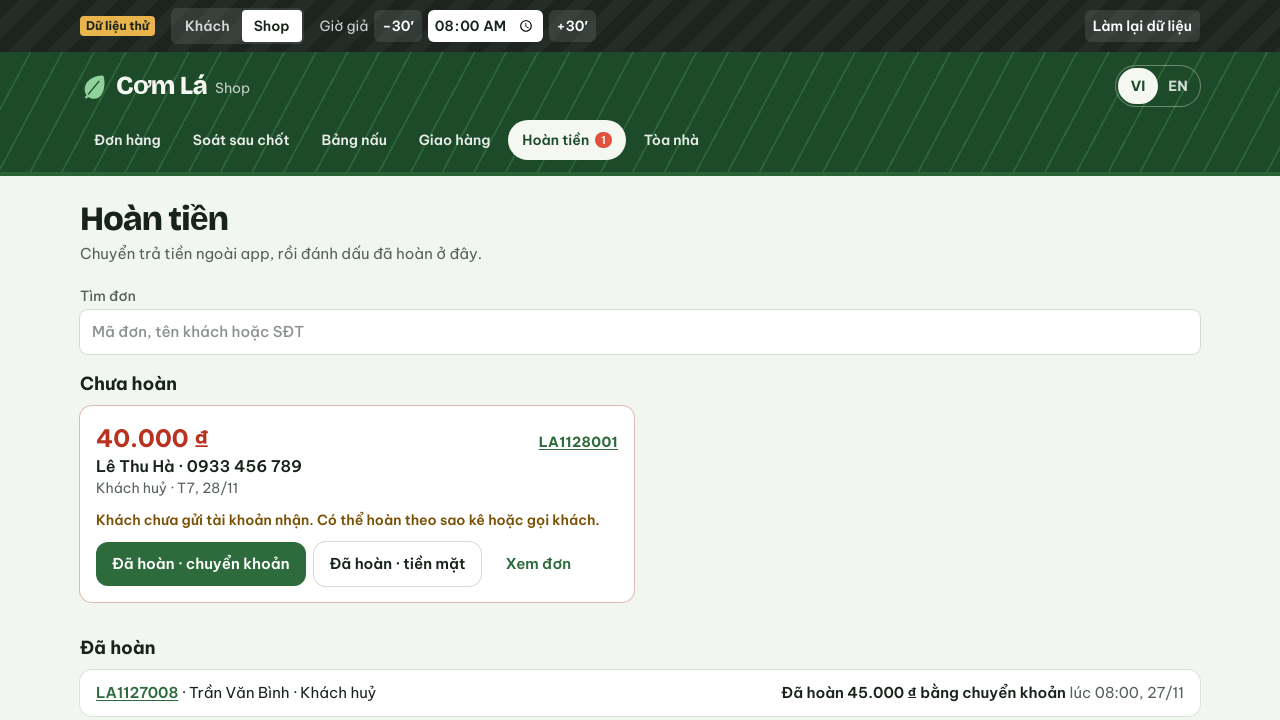
Test case: sorting and searching on the shop screens (CN-56) › AC48: Refunds: search over every day in both parts, newest order first; one time format everywhere
Type "thu ha" into the search field labelled "Tìm đơn".
click(640, 332); type("thu ha")  # box left=80, top=310, right=1200, bottom=354
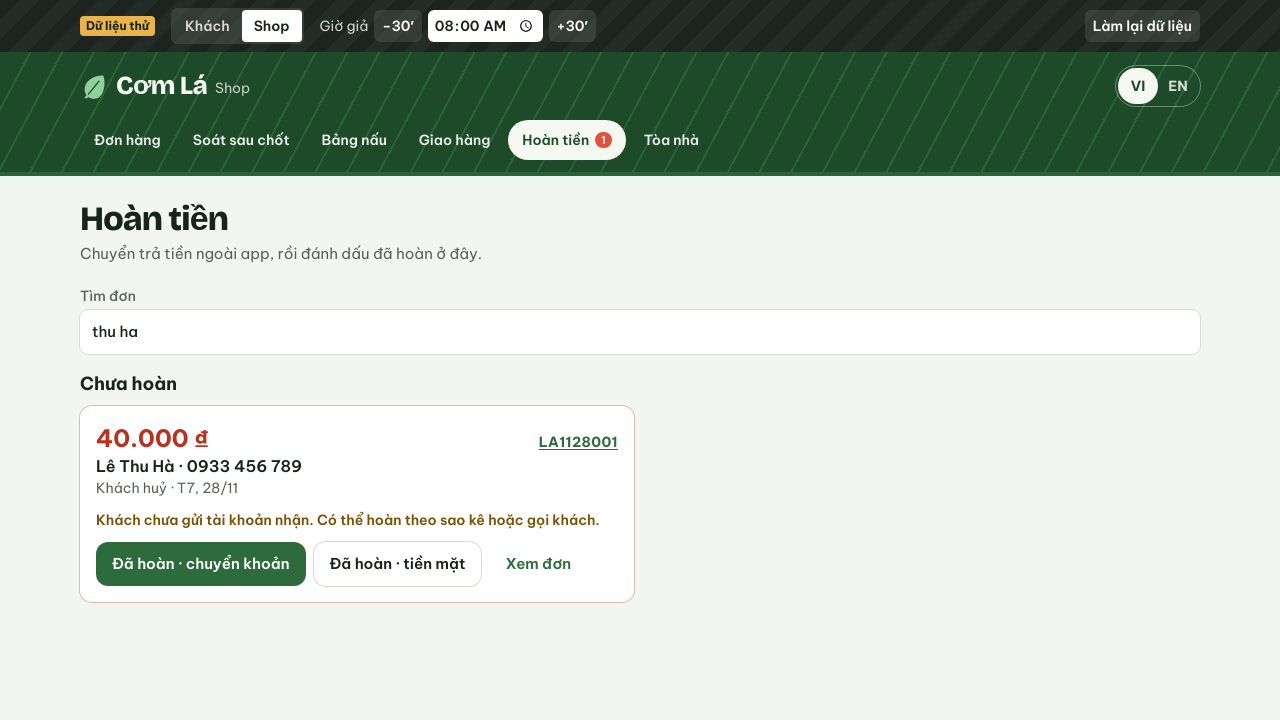
Replace the text in the search field labelled "Tìm đơn" with "binh" at [640, 332], box left=80, top=310, right=1200, bottom=354
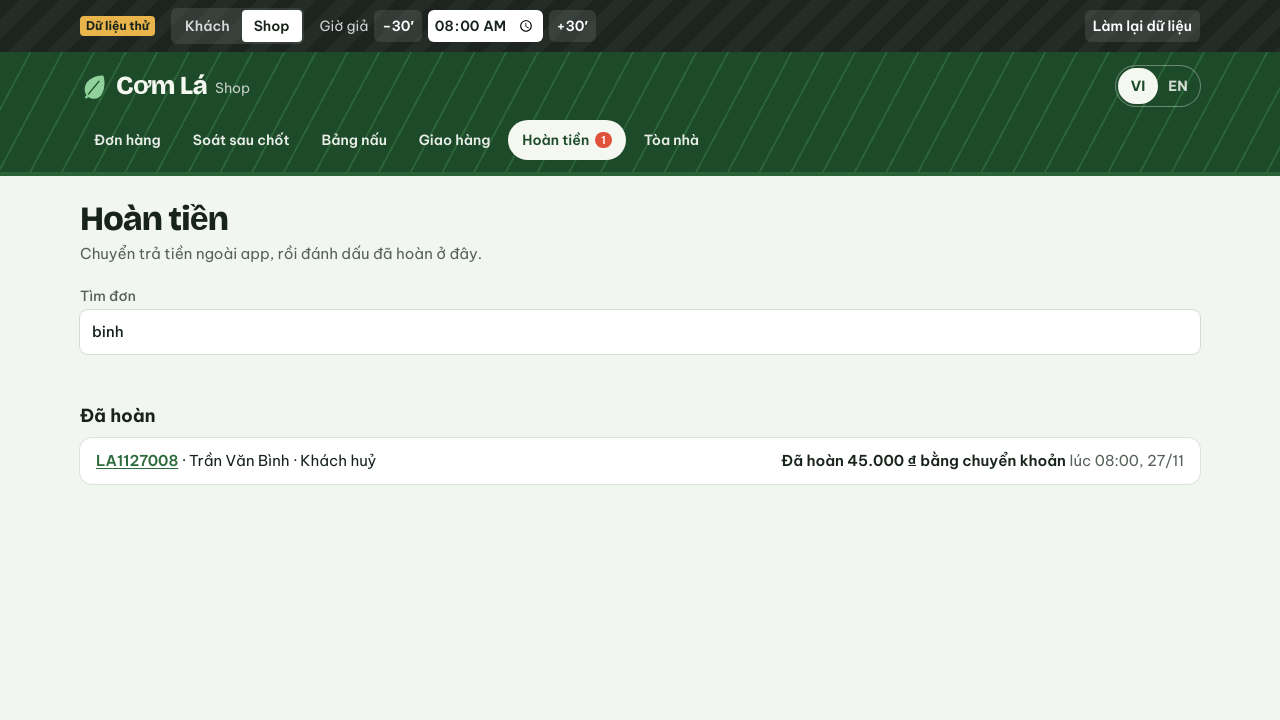
Now the text "lúc 08:00, 27/11" is shown, box left=1069, top=451, right=1184, bottom=470
